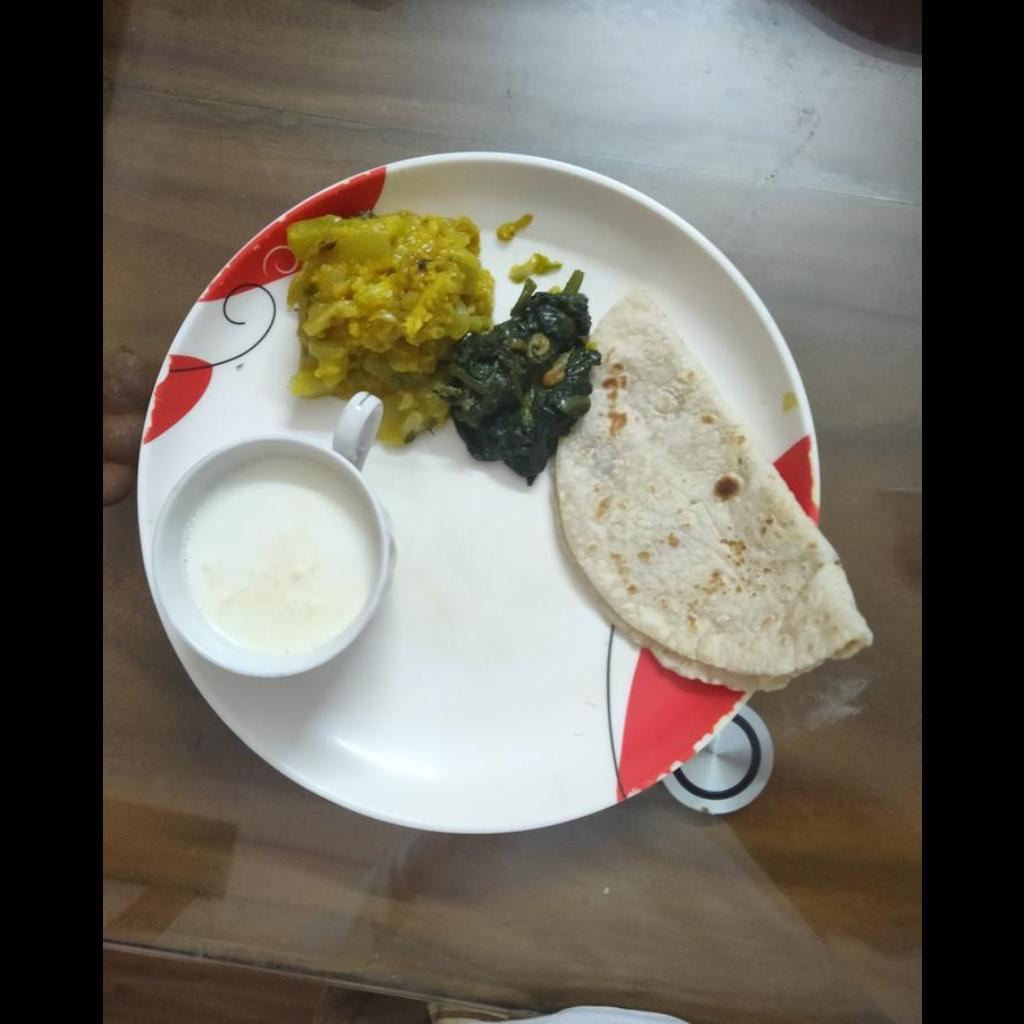milk: (180, 454, 372, 652)
ruti: (557, 290, 870, 695)
shak: (440, 270, 588, 488)
vaji: (278, 215, 490, 442)
